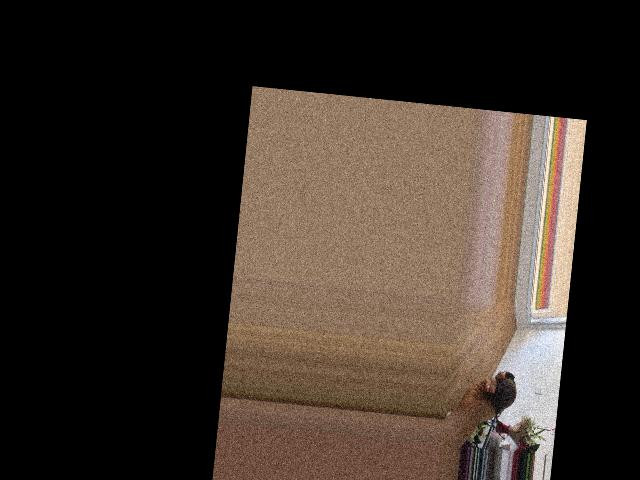beet: (488, 370, 518, 439)
